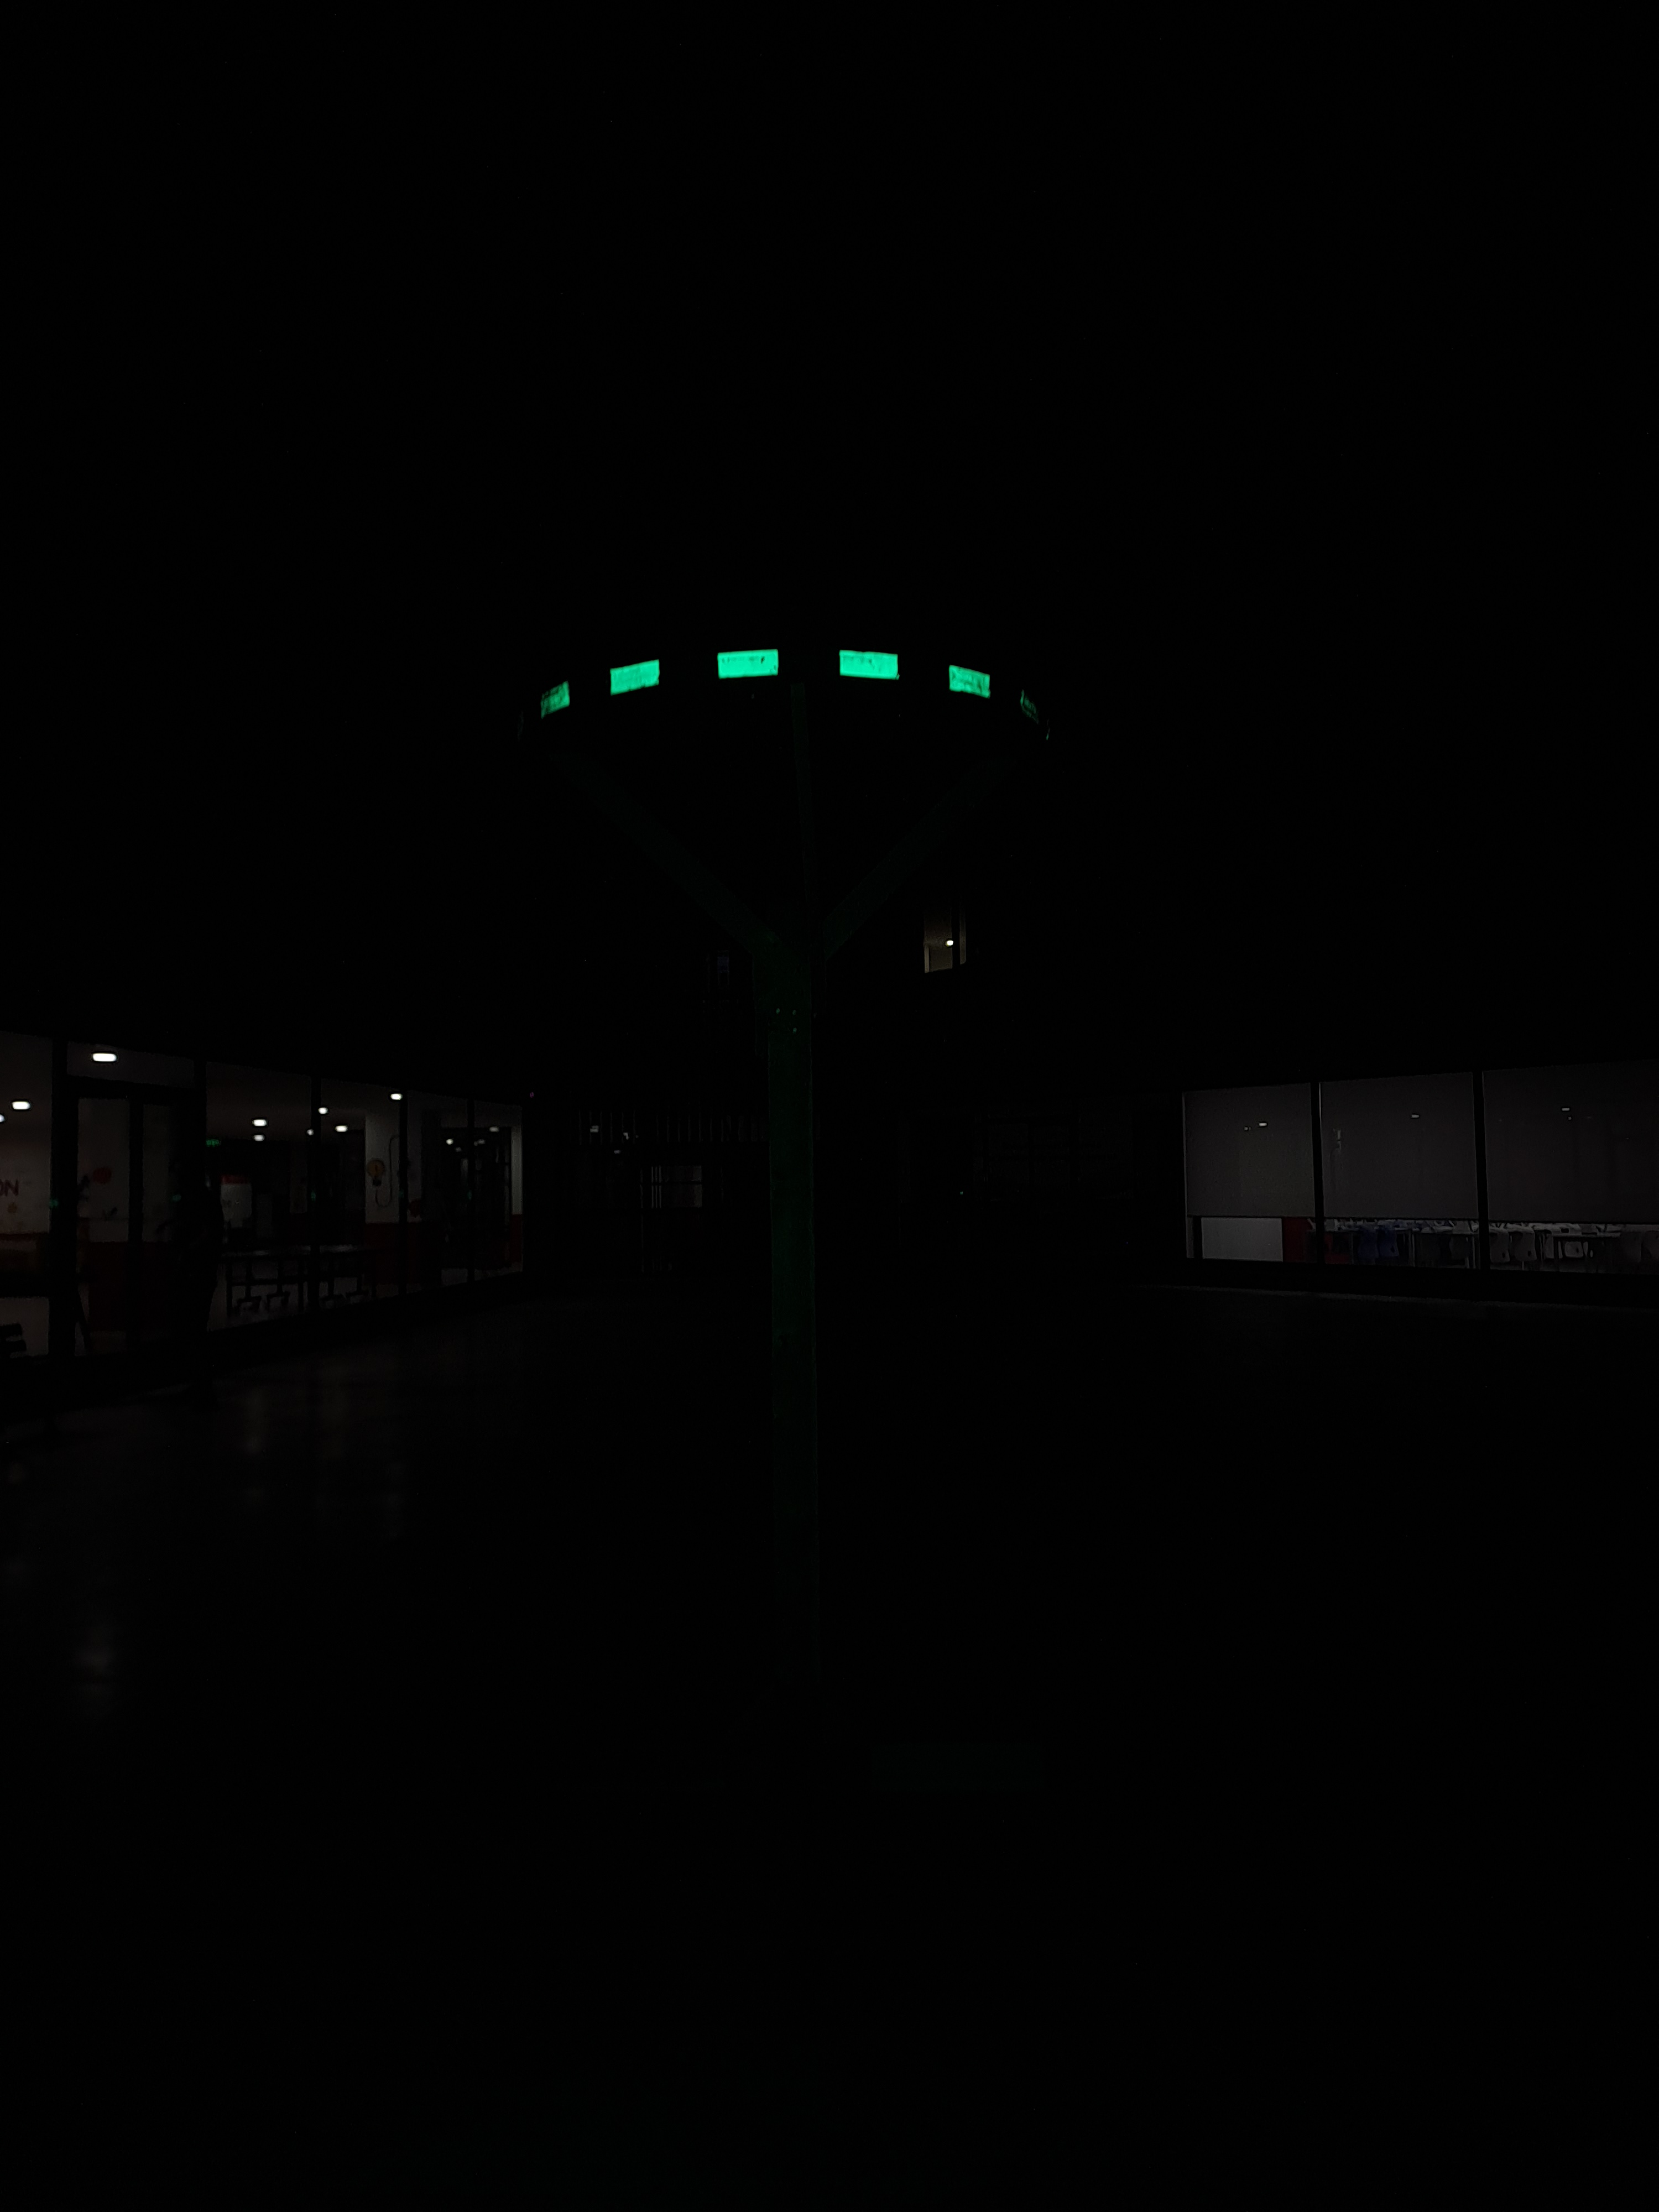hoop: (519, 637, 1000, 730)
